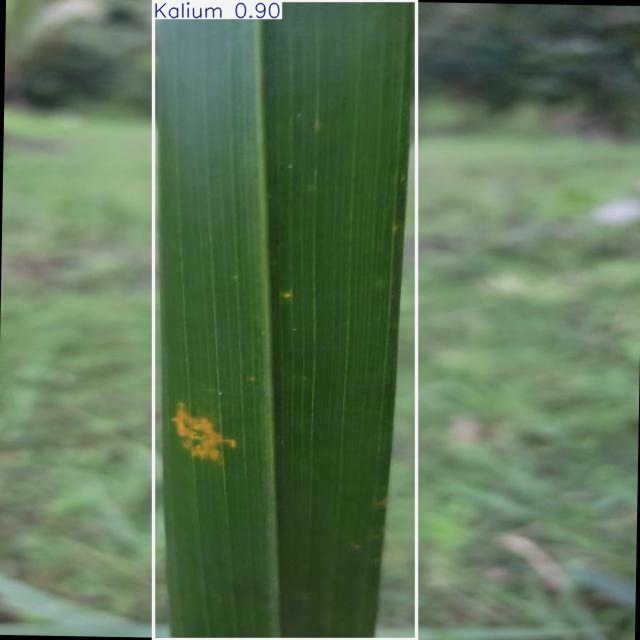Kalium: (154, 0, 416, 640)
